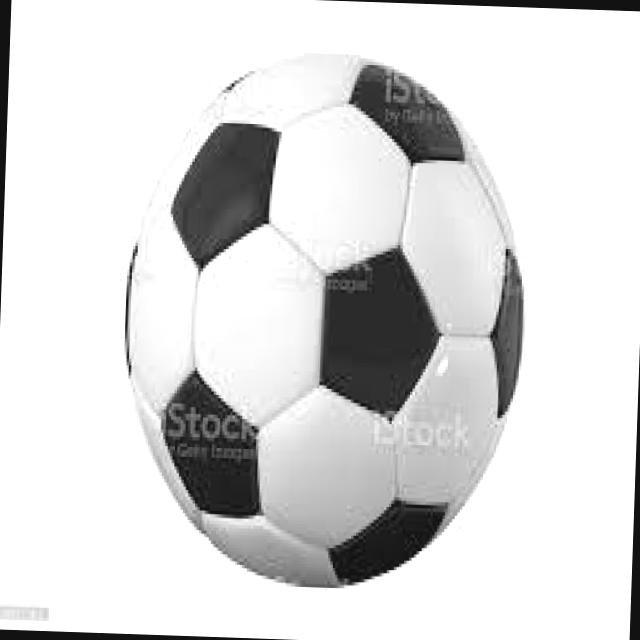Soccer Ball: (116, 40, 530, 597)
